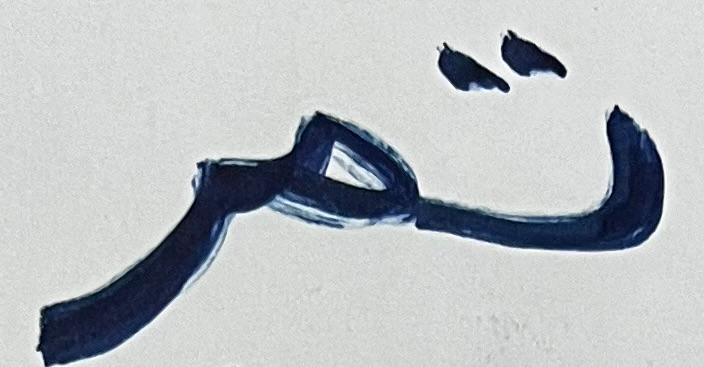character: (19, 129, 240, 363), (442, 30, 666, 254), (246, 98, 435, 249)
